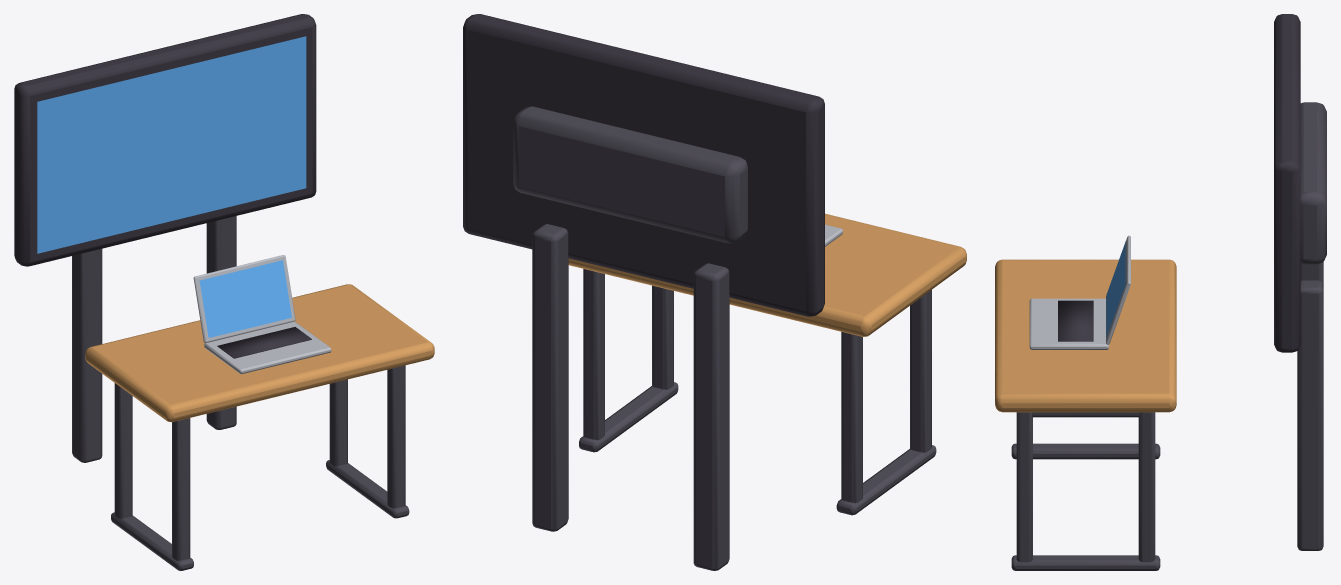
Rendered from monitoring_wall_l1.glb.
3 renders of one model, left to right at view 1: azimuth 30°, elevation 25°; view 2: azimuth 150°, elevation 25°; view 3: azimuth 270°, elevation 25°, orthographic. The views are drawn at different scales.
Visible parts, largest first — view 1: monitoring_wall_l1, wall_screen, wall_laptop_screen; view 2: monitoring_wall_l1; view 3: monitoring_wall_l1, wall_laptop_screen.
Part boxes in pixels (x1,y1,x2,y2): monitoring_wall_l1: (14,14,434,570); wall_screen: (37,36,306,253); wall_laptop_screen: (199,260,291,337); monitoring_wall_l1: (463,14,966,570); monitoring_wall_l1: (995,14,1326,570); wall_laptop_screen: (1106,242,1125,337).
Bounding box in the file's own units: 1.1 × 1.42 × 1.
